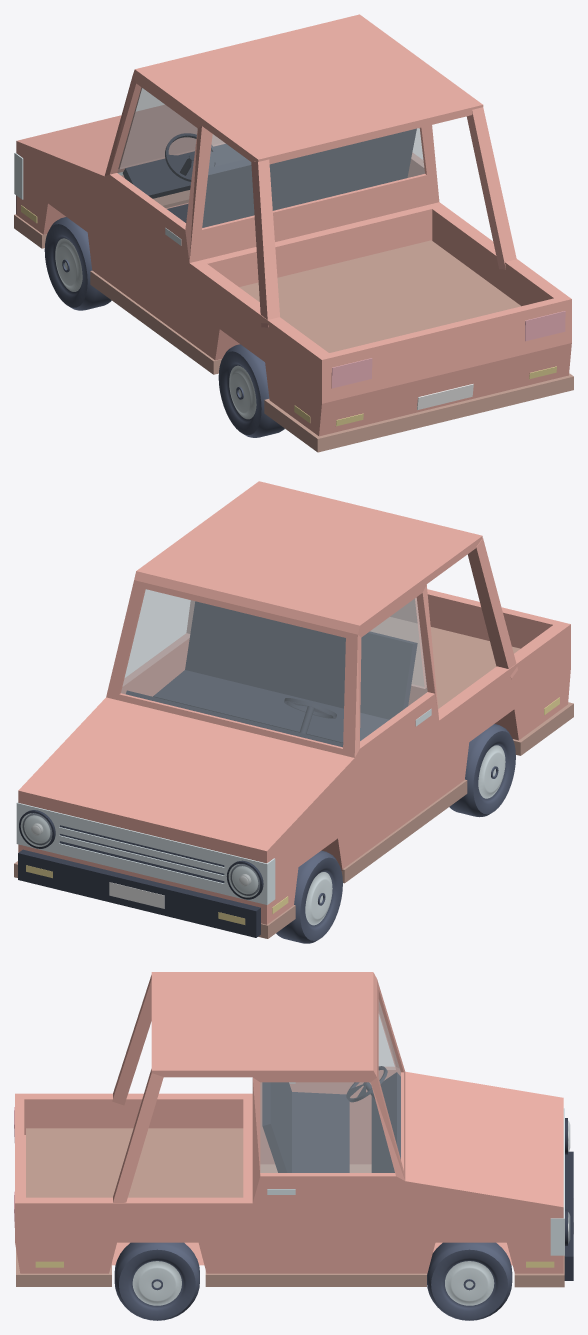
Rendered from masina.fbx.
3 views of the same model, one above another, from view 1: azimuth 30°, elevation 25°; view 2: azimuth 150°, elevation 25°; view 3: azimuth 270°, elevation 25° (orthographic). The views are drawn at different scales.
Visible parts, largest first — view 1: scena:Cube_2_3, scena:Cube, scena:Cube_13, scena:Cube_1, scena:Cylinder_1_2, scena:Cylinder_7, scena:Cube_1_2, scena:Cube_2_2, scena:Cube_15, scena:Cube_2, scena:Cube_3, scena:Cube_12 (+3 smaller); view 2: scena:Cube_2_3, scena:Cube_13, scena:Cube_3_2, scena:Cube_4, scena:Cube_14, scena:Cube, scena:Cylinder_1_2, scena:Cylinder_7, scena:Cube_1_2, scena:Cube_2, scena:Cylinder_2_3, scena:Cylinder_2 (+6 smaller); view 3: scena:Cube_2_3, scena:Cube, scena:Cylinder_5, scena:Cylinder_6, scena:Cube_14, scena:Cube_2, scena:Cube_13, scena:Cube_15, scena:Cube_2_2, scena:Cube_1_2, scena:Cube_1, scena:Cube_4 (+2 smaller).
Boxes of the visible parts, left/top/right/bottom form: scena:Cube_2_3: left=16, top=14, right=571, bottom=436; scena:Cube: left=239, top=240, right=520, bottom=352; scena:Cube_13: left=186, top=128, right=416, bottom=227; scena:Cube_1: left=264, top=373, right=573, bottom=452; scena:Cylinder_1_2: left=218, top=344, right=284, bottom=437; scena:Cylinder_7: left=44, top=217, right=111, bottom=310; scena:Cube_1_2: left=251, top=159, right=279, bottom=327; scena:Cube_2_2: left=466, top=107, right=516, bottom=269; scena:Cube_15: left=123, top=144, right=246, bottom=198; scena:Cube_2: left=90, top=270, right=221, bottom=374; scena:Cube_3: left=14, top=190, right=189, bottom=248; scena:Cube_12: left=331, top=358, right=372, bottom=388; scena:Cube_2_3: left=18, top=481, right=570, bottom=924; scena:Cube_13: left=185, top=601, right=417, bottom=719; scena:Cube_3_2: left=16, top=802, right=275, bottom=904; scena:Cube_4: left=18, top=849, right=260, bottom=937; scena:Cube_14: left=153, top=670, right=388, bottom=742; scena:Cube: left=370, top=617, right=520, bottom=708; scena:Cylinder_1_2: left=449, top=724, right=515, bottom=817; scena:Cylinder_7: left=276, top=850, right=342, bottom=943; scena:Cube_1_2: left=467, top=538, right=517, bottom=678; scena:Cube_2: left=341, top=779, right=467, bottom=883; scena:Cylinder_2_3: left=226, top=860, right=263, bottom=899; scena:Cylinder_2: left=19, top=810, right=55, bottom=848; scena:Cube_2_3: left=15, top=972, right=563, bottom=1274; scena:Cube: left=26, top=1128, right=243, bottom=1197; scena:Cylinder_5: left=114, top=1242, right=199, bottom=1320; scena:Cylinder_6: left=427, top=1242, right=512, bottom=1320; scena:Cube_14: left=292, top=1092, right=349, bottom=1172; scena:Cube_2: left=205, top=1164, right=426, bottom=1286; scena:Cube_13: left=262, top=1082, right=291, bottom=1172; scena:Cube_15: left=371, top=1072, right=400, bottom=1172; scena:Cube_2_2: left=113, top=1069, right=163, bottom=1202; scena:Cube_1_2: left=112, top=975, right=151, bottom=1105; scena:Cube_1: left=16, top=1249, right=111, bottom=1286; scena:Cube_4: left=564, top=1151, right=573, bottom=1280.
Bounding box in the file's own units: 1.55 × 1.58 × 3.24.
